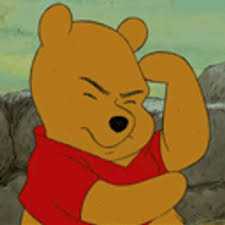Winnie: (15, 2, 183, 210)
